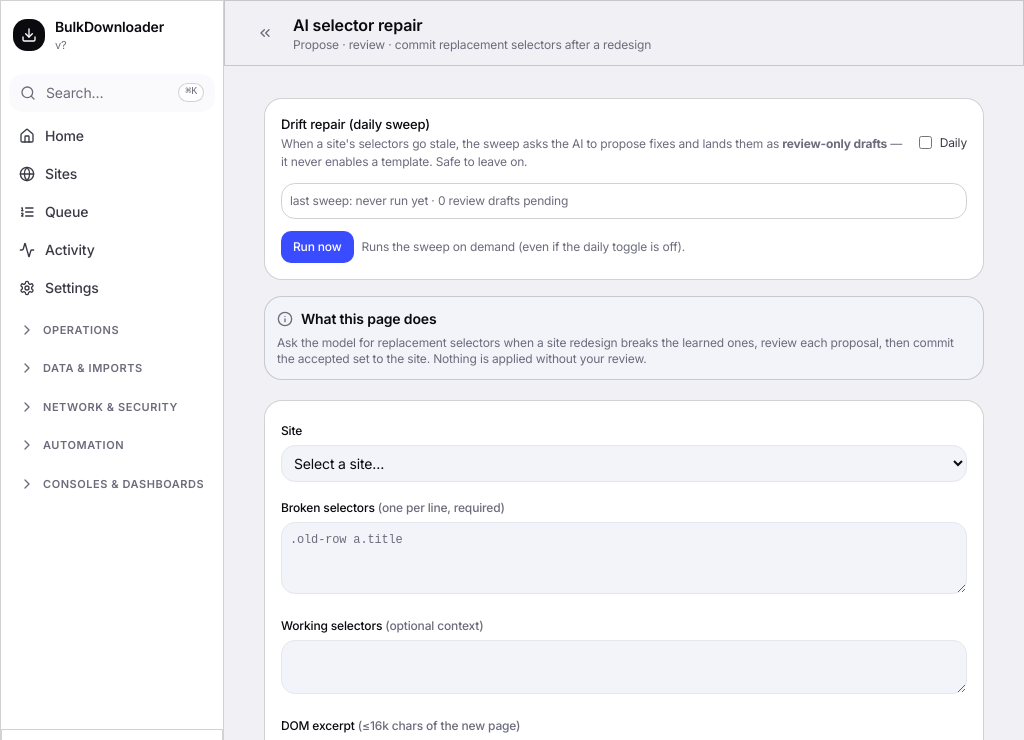
F2 AiTeach › F2 control: committing on the proposing site posts there and clears the plan
Select "Site A" in the dropdown at [624, 463], box [281,444,967,482]
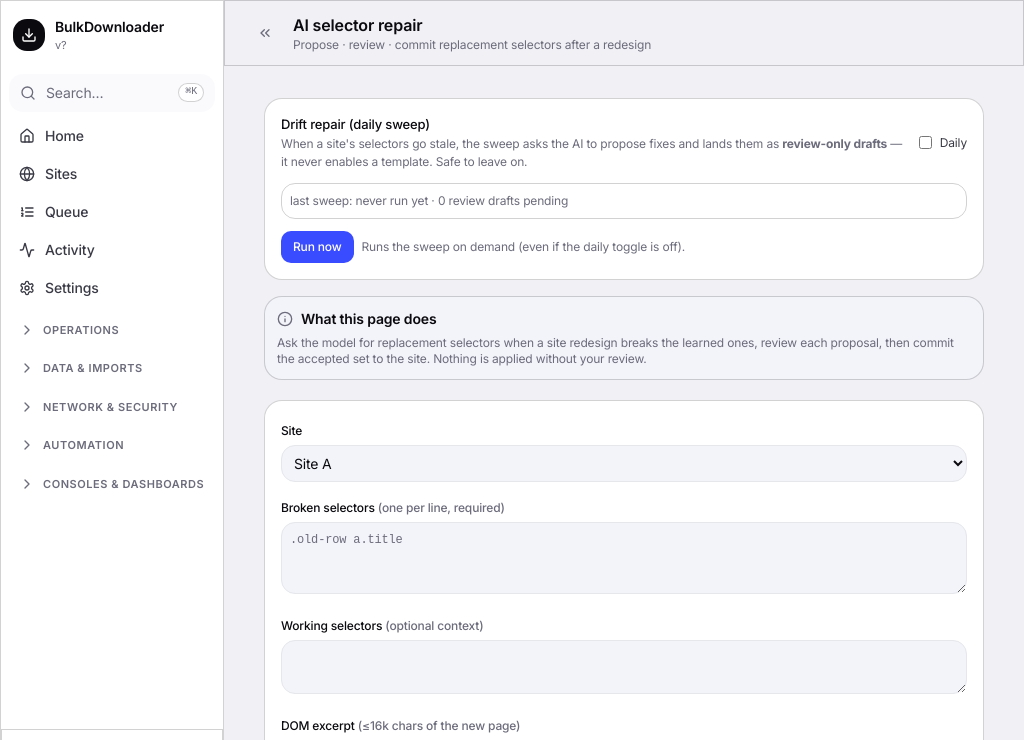
Type ".a-old" into the text box with placeholder ".old-row a.title" at [624, 558], box [281,522,967,594]
(page scrolled)
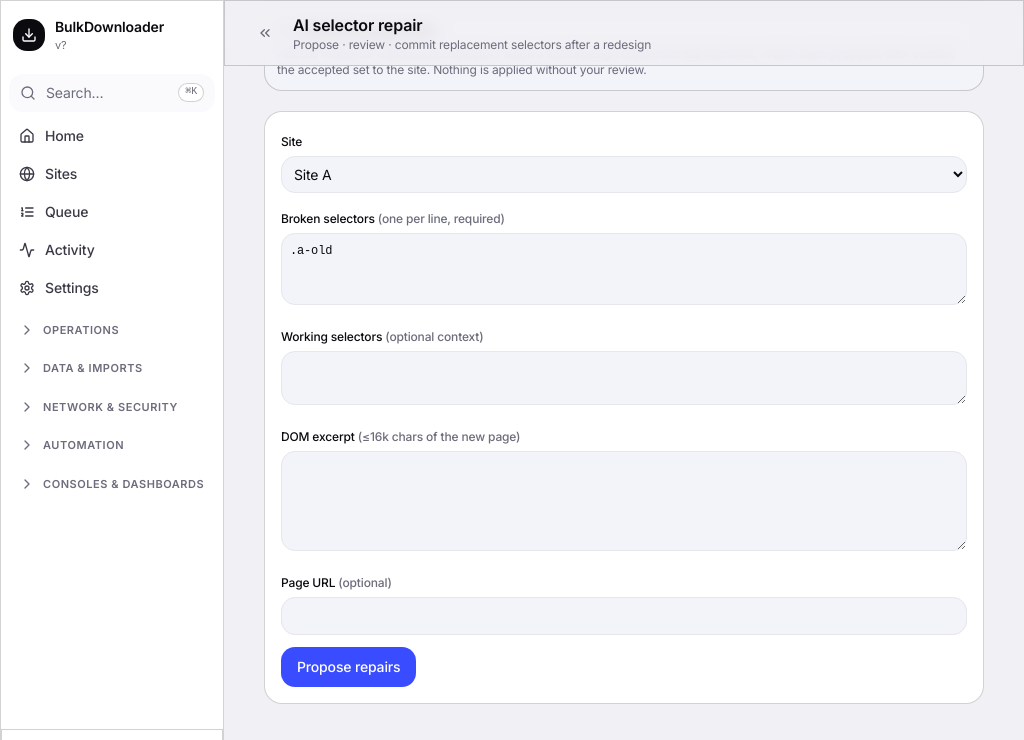
Click the button "Propose repairs" at [349, 667], box [281,647,416,687]
(page scrolled)
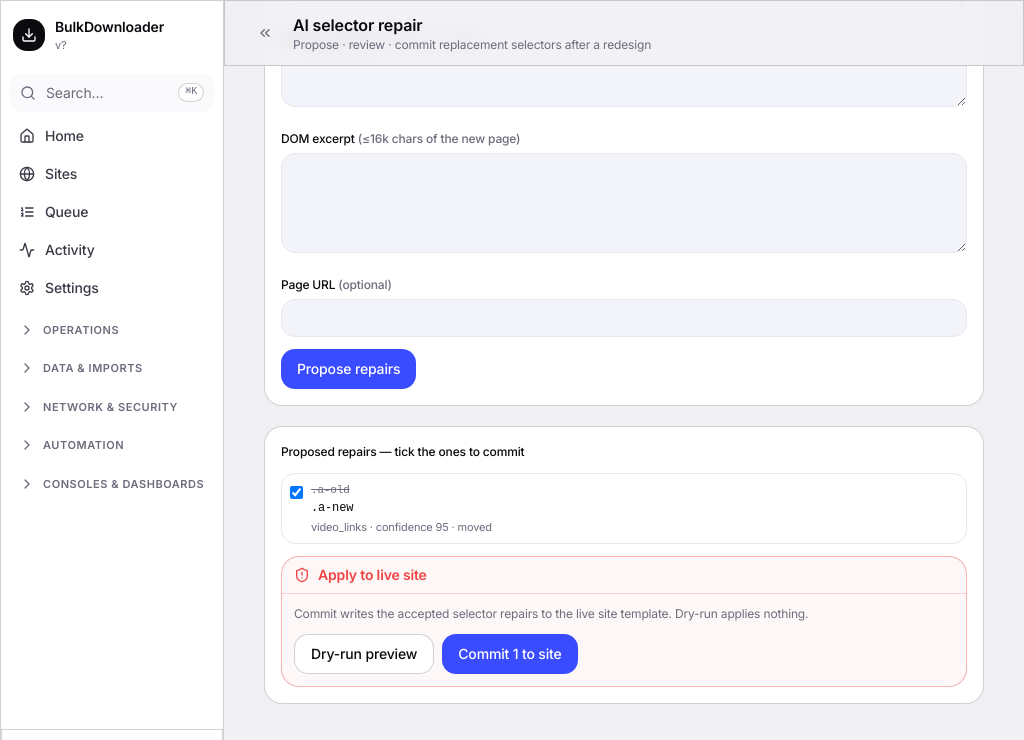
Click the button "Commit 1 to site" at [510, 654], box [442,634,578,674]
(page scrolled)
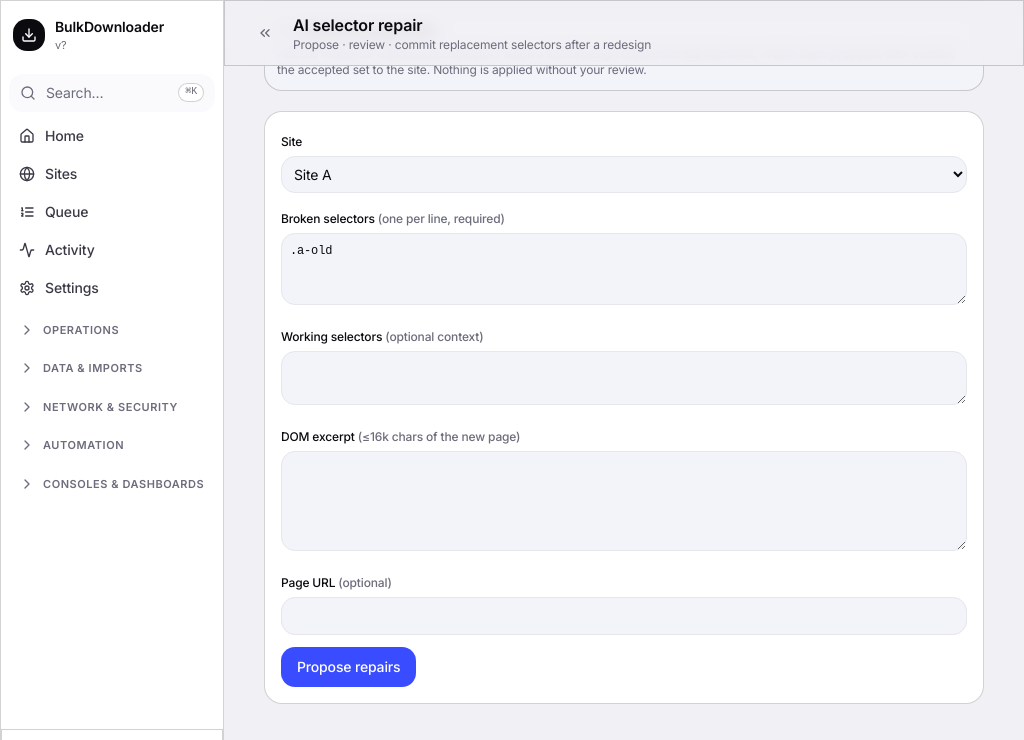
Expected: the text ".a-new" is gone
